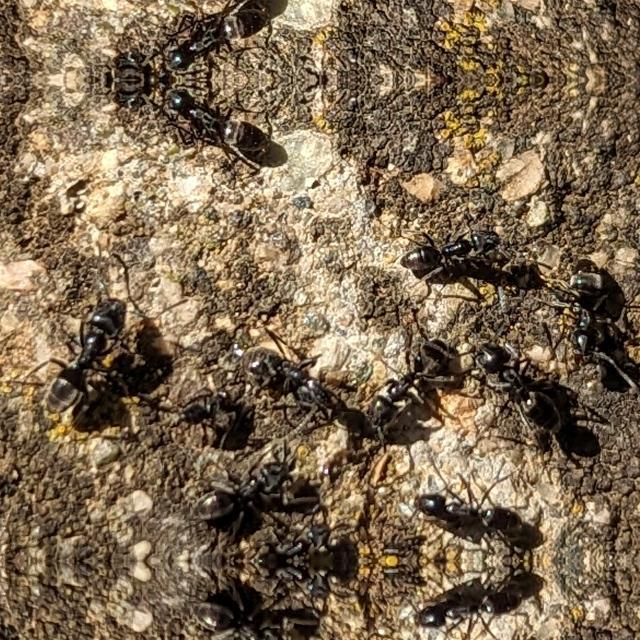Tapinoma: (22, 282, 156, 426), (227, 332, 377, 444), (142, 78, 280, 165), (464, 336, 578, 440), (182, 447, 310, 535), (356, 329, 462, 433), (140, 0, 279, 78), (540, 248, 630, 364), (384, 216, 511, 290), (404, 476, 538, 544), (404, 576, 536, 640), (180, 586, 310, 640), (231, 514, 345, 560), (231, 561, 345, 607)
